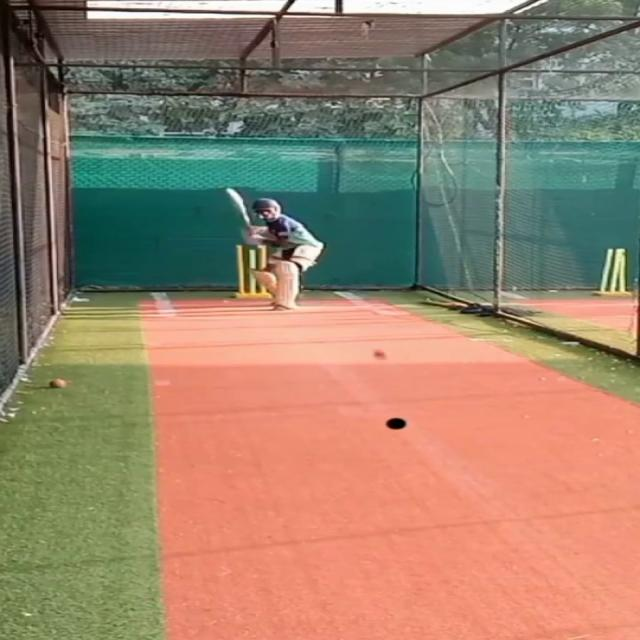ball: (368, 347, 388, 360), (44, 377, 65, 389)
stump: (229, 241, 269, 299)
